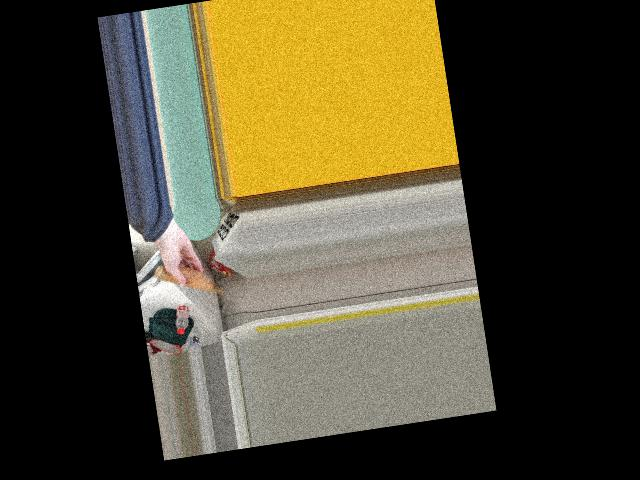sweet_potato: (157, 259, 208, 298)
